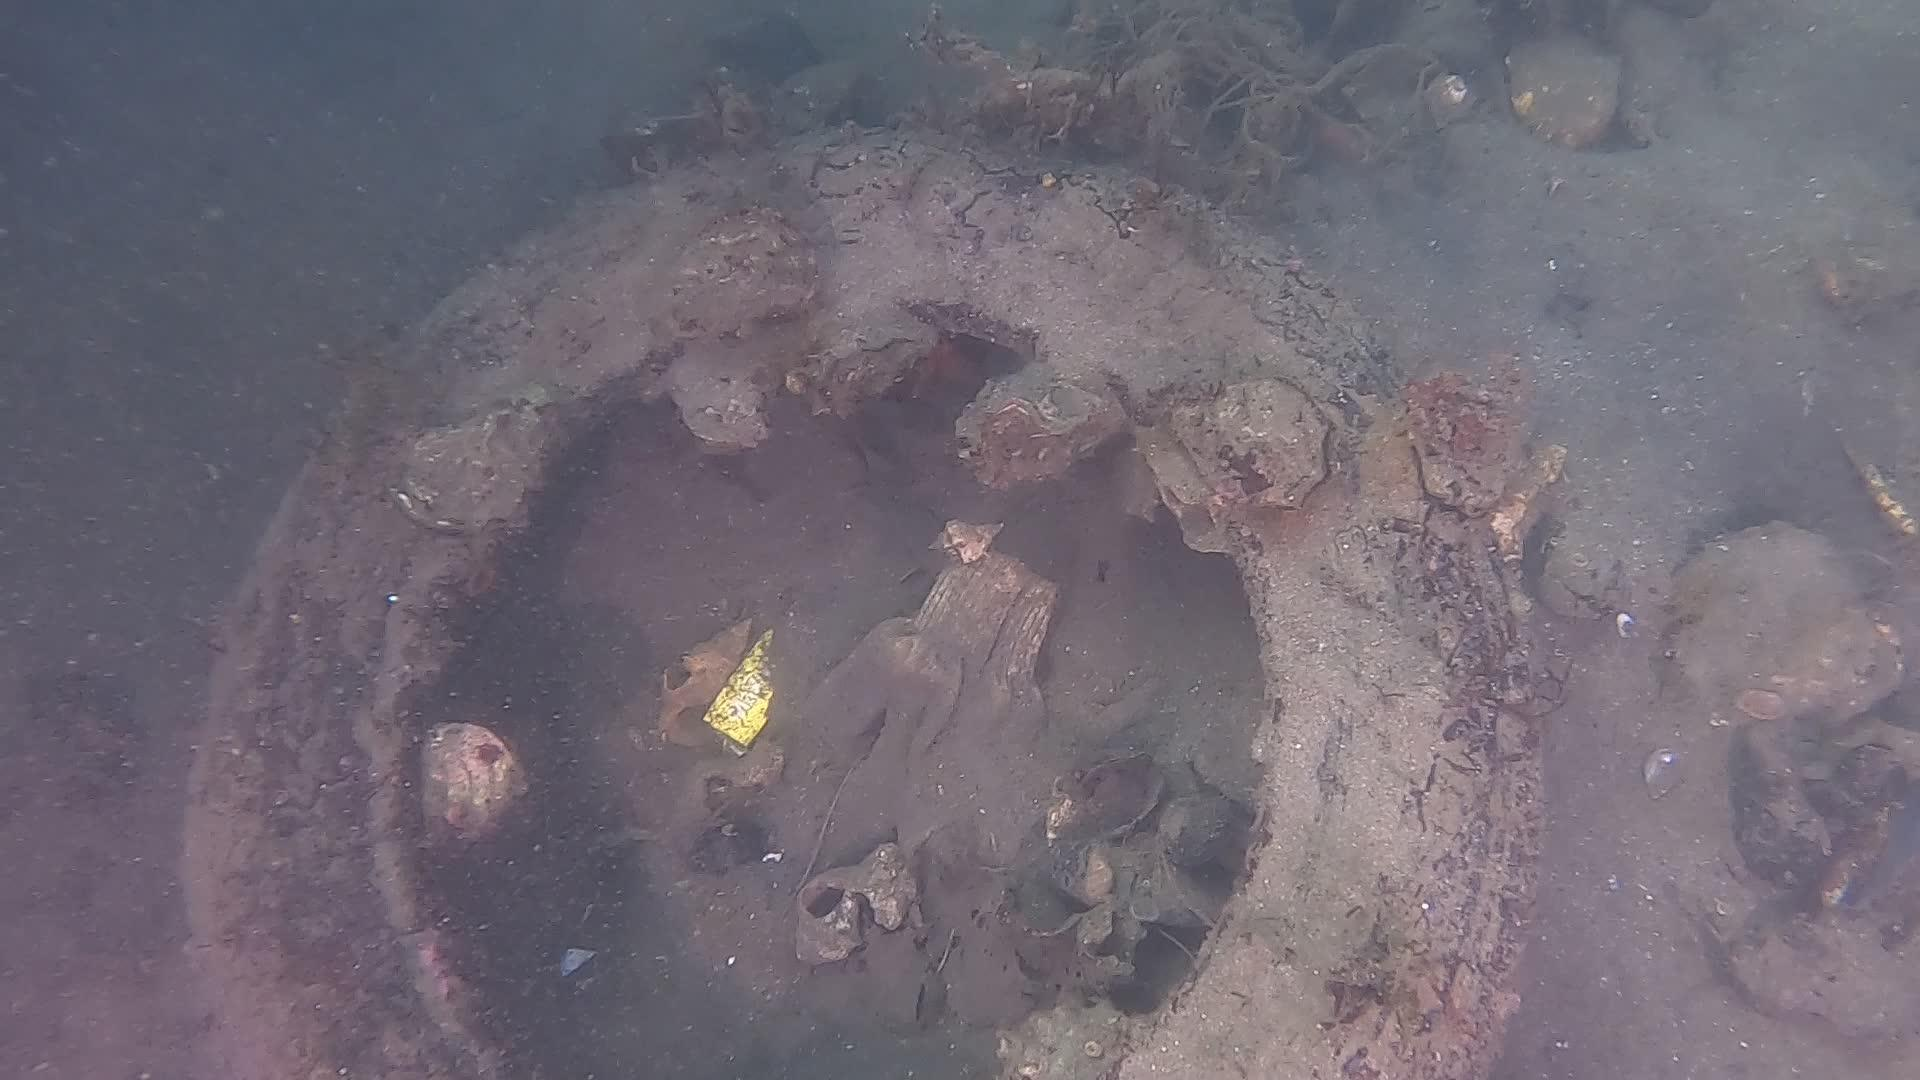tire: (175, 127, 1542, 1080)
